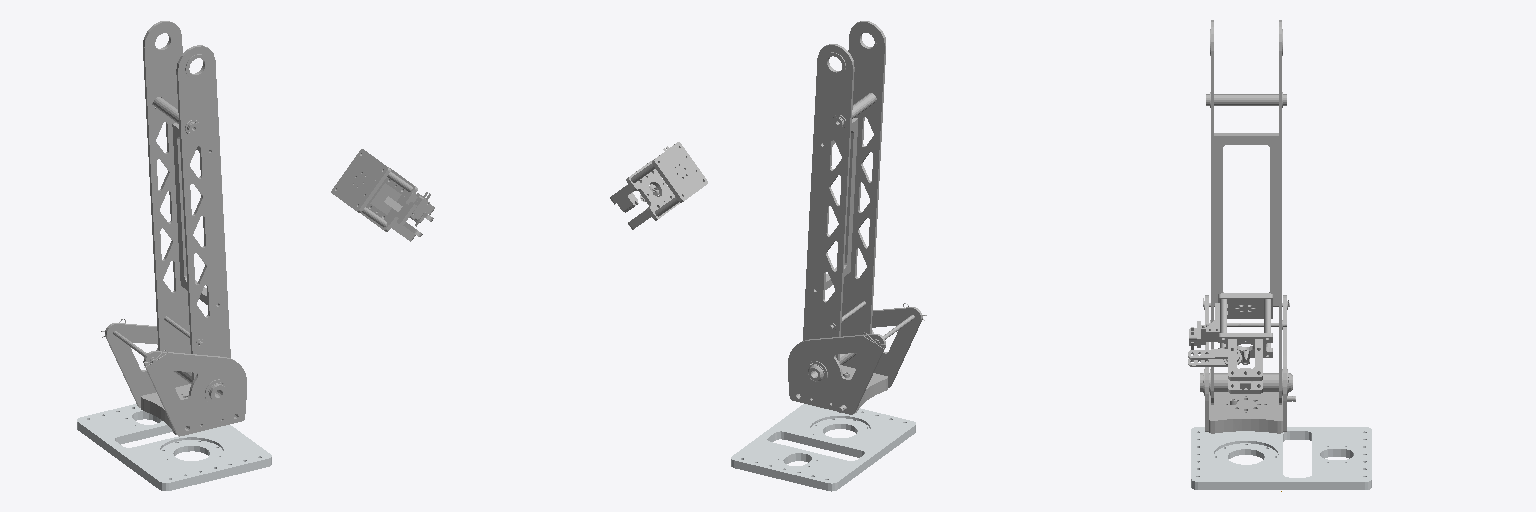
robot.urdf — uorover_ik_urdf:
<?xml version="1.0" encoding="utf-8"?>
<!-- This URDF was automatically created by SolidWorks to URDF Exporter! Originally created by Stephen Brawner (brawner@gmail.com) 
     Commit Version: 1.6.0-4-g7f85cfe  Build Version: 1.6.7995.38578
     For more information, please see http://wiki.ros.org/sw_urdf_exporter -->
<robot
  name="uorover_ik_urdf">
<link name="base_footprint">
    <visual>
        <origin xyz="0 0 0" rpy="0 0 0" />
        <geometry>
            <box size="0.001 0.001 0.001" />
        </geometry>
    </visual>
</link>

<joint name="base_footprint_joint" type="fixed">
    <origin xyz="0 0 0.001" rpy="0 0 0" />
    <parent link="base_footprint"/>
    <child link="L1" />
</joint>
  <link
    name="L1">
    <inertial>
      <origin
        xyz="-0.0889039999999999 -0.00216367371297598 0.0061926513443181"
        rpy="0 0 0" />
      <mass
        value="1.11567552816617" />
      <inertia
        ixx="0.00670675835729054"
        ixy="-1.72969439227837E-18"
        ixz="-2.42074452512688E-21"
        iyy="0.00350969062967327"
        iyz="-8.11762714426985E-06"
        izz="0.0101871515158493" />
    </inertial>
    <visual>
      <origin
        xyz="0 0 0"
        rpy="0 0 0" />
      <geometry>
        <mesh
          filename="package://arm_urdf/meshes/visual/L1.STL" />
      </geometry>
      <material
        name="">
        <color
          rgba="0.898039215686275 0.917647058823529 0.929411764705882 1" />
      </material>
    </visual>
    <collision>
      <origin
        xyz="0 0 0"
        rpy="0 0 0" />
      <geometry>
        <mesh
          filename="package://arm_urdf/meshes/visual/L1.STL" />
      </geometry>
    </collision>
  </link>
  <link
    name="L2">
    <inertial>
      <origin
        xyz="-0.00368694035818645 -3.21494672345969E-05 0.0956990751549506"
        rpy="0 0 0" />
      <mass
        value="1.18613336880623" />
      <inertia
        ixx="0.0014201652113015"
        ixy="2.76657889186741E-11"
        ixz="0.000221872575909511"
        iyy="0.00150405295307427"
        iyz="-1.28741499624588E-10"
        izz="0.00193692878914472" />
    </inertial>
    <visual>
      <origin
        xyz="0 0 0"
        rpy="0 0 0" />
      <geometry>
        <mesh
          filename="package://arm_urdf/meshes/visual/L2.STL" />
      </geometry>
      <material
        name="">
        <color
          rgba="0.752941176470588 0.752941176470588 0.752941176470588 1" />
      </material>
    </visual>
    <collision>
      <origin
        xyz="0 0 0"
        rpy="0 0 0" />
      <geometry>
        <mesh
          filename="package://arm_urdf/meshes/visual/L2.STL" />
      </geometry>
    </collision>
  </link>
  <joint
    name="q1"
    type="revolute">
    <origin
      xyz="-0.0889039999999999 -0.0484047735988484 0.0127"
      rpy="0 0 0" />
    <parent
      link="L1" />
    <child
      link="L2" />
    <axis
      xyz="0 0 1" />
    <limit
      lower="-3.1415"
    upper="3.1415"
    effort="0"
    velocity="0"/>
  </joint>
  <link
    name="L3">
    <inertial>
      <origin
        xyz="0.25167098941159 0.00314599624516848 0.00045160017119715"
        rpy="0 0 0" />
      <mass
        value="1.0549508173511" />
      <inertia
        ixx="0.000628061590090841"
        ixy="-5.98815097701081E-06"
        ixz="-3.58336064559531E-13"
        iyy="0.0200045124275016"
        iyz="1.32565003895787E-13"
        izz="0.0198519941643707" />
    </inertial>
    <visual>
      <origin
        xyz="0 0 0"
        rpy="0 0 0" />
      <geometry>
        <mesh
          filename="package://arm_urdf/meshes/visual/L3.STL" />
      </geometry>
      <material
        name="">
        <color
          rgba="0.752941176470588 0.752941176470588 0.752941176470588 1" />
      </material>
    </visual>
    <collision>
      <origin
        xyz="0 0 0"
        rpy="0 0 0" />
      <geometry>
        <mesh
          filename="package://arm_urdf/meshes/visual/L3.STL" />
      </geometry>
    </collision>
  </link>
  <joint
    name="q2"
    type="revolute">
    <origin
      xyz="0.00685808437219609 0 0.110999999999996"
      rpy="1.57079632679491 -1.51729393736529 3.14159265358979" />
    <parent
      link="L2" />
    <child
      link="L3" />
    <axis
      xyz="0 0 -1" />
    <limit
      lower="-3.1415"
    upper="3.1415"
    effort="0"
    velocity="0"/>
  </joint>
  <link
    name="L4">
    <inertial>
      <origin
        xyz="0.0724577913642345 -7.65371123567782E-06 0.00966446663630576"
        rpy="0 0 0" />
      <mass
        value="1.69913449694391" />
      <inertia
        ixx="0.00113988410083823"
        ixy="4.87653122834321E-08"
        ixz="4.90111264903512E-07"
        iyy="0.00805881384546574"
        iyz="9.93393014315408E-09"
        izz="0.00750229198284252" />
    </inertial>
    <visual>
      <origin
        xyz="0 0 0"
        rpy="0 0 0" />
      <geometry>
        <mesh
          filename="package://arm_urdf/meshes/visual/L4.STL" />
      </geometry>
      <material
        name="">
        <color
          rgba="0.752941176470588 0.752941176470588 0.752941176470588 1" />
      </material>
    </visual>
    <collision>
      <origin
        xyz="0 0 0"
        rpy="0 0 0" />
      <geometry>
        <mesh
          filename="package://arm_urdf/meshes/visual/L4.STL" />
      </geometry>
    </collision>
  </link>
  <joint
    name="q3"
    type="revolute">
    <origin
      xyz="0.50000000000005 0 -9.84000539984223E-05"
      rpy="-3.14159265358978 0 2.35890188320883" />
    <parent
      link="L3" />
    <child
      link="L4" />
    <axis
      xyz="0 0 -1" />
    <limit
      lower="-3.1415"
    upper="3.1415"
    effort="0"
    velocity="0"/>
  </joint>
  <link
    name="L5">
    <inertial>
      <origin
        xyz="0.077844 0.0091065 1.9225E-05"
        rpy="0 0 0" />
      <mass
        value="0.76537" />
      <inertia
        ixx="0.00054203"
        ixy="-1.2252E-07"
        ixz="-1.0841E-06"
        iyy="0.00043298"
        iyz="7.4122E-08"
        izz="0.00047905" />
    </inertial>
    <visual>
      <origin
        xyz="0 0 0"
        rpy="0 0 0" />
      <geometry>
        <mesh
          filename="package://arm_urdf/meshes/visual/L5.STL" />
      </geometry>
      <material
        name="">
        <color
          rgba="0.75294 0.75294 0.75294 1" />
      </material>
    </visual>
    <collision>
      <origin
        xyz="0 0 0"
        rpy="0 0 0" />
      <geometry>
        <mesh
          filename="package://arm_urdf/meshes/visual/L5.STL" />
      </geometry>
    </collision>
  </link>
  <joint
    name="q4"
    type="revolute">
    <origin
      xyz="0.25 0 0.000139587202491478"
      rpy="0 0 0" />
    <parent
      link="L4" />
    <child
      link="L5" />
    <axis
      xyz="0 0 -1" />
    <limit
      lower="-3.1415"
    upper="3.1415"
    effort="0"
    velocity="0"/>
  </joint>
  <link
    name="L6">
    <inertial>
      <origin
        xyz="-0.0050341 0.00054854 0.050569"
        rpy="0 0 0" />
      <mass
        value="0.46655" />
      <inertia
        ixx="0.00016561"
        ixy="-6.7947E-08"
        ixz="2.1324E-06"
        iyy="0.00018269"
        iyz="-4.0038E-07"
        izz="0.000225" />
    </inertial>
    <visual>
      <origin
        xyz="0 0 0"
        rpy="0 0 0" />
      <geometry>
        <mesh
          filename="package://arm_urdf/meshes/visual/L6.STL" />
      </geometry>
      <material
        name="">
        <color
          rgba="0.75294 0.75294 0.75294 1" />
      </material>
    </visual>
    <collision>
      <origin
        xyz="0 0 0"
        rpy="0 0 0" />
      <geometry>
        <mesh
          filename="package://arm_urdf/meshes/visual/L6.STL" />
      </geometry>
    </collision>
  </link>
  <joint
    name="q5"
    type="continuous">
    <origin
      xyz="0.1373 0 0.00014345889109937"
      rpy="0 1.5707963267949 0" />
    <parent
      link="L5" />
    <child
      link="L6" />
    <axis
      xyz="0 0 -1" />
  </joint>
  <link
    name="L7">
    <inertial>
      <origin
        xyz="0.023439 -6.8897E-05 -0.0032675"
        rpy="0 0 0" />
      <mass
        value="0.027395" />
      <inertia
        ixx="7.5105E-07"
        ixy="-2.8505E-21"
        ixz="-2.3682E-08"
        iyy="1.0292E-05"
        iyz="8.6482E-22"
        izz="1.0861E-05" />
    </inertial>
    <visual>
      <origin
        xyz="0 0 0"
        rpy="0 0 0" />
      <geometry>
        <mesh
          filename="package://arm_urdf/meshes/visual/L7.STL" />
      </geometry>
      <material
        name="">
        <color
          rgba="0.75294 0.75294 0.75294 1" />
      </material>
    </visual>
    <collision>
      <origin
        xyz="0 0 0"
        rpy="0 0 0" />
      <geometry>
        <mesh
          filename="package://arm_urdf/meshes/visual/L7.STL" />
      </geometry>
    </collision>
  </link>
  <joint
    name="q6"
    type="revolute">
    <origin
      xyz="-0.0179216519246285 0.00323035087726131 0.0792642765878136"
      rpy="1.5707963267949 -0.0272761093214972 3.14159265358978" />
    <parent
      link="L6" />
    <child
      link="L7" />
    <axis
      xyz="0 0 -1" />
    <limit
      lower="-3.1415"
    upper="3.1415"
    effort="0"
    velocity="0"/>
  </joint>
</robot>

--- What the picture shows (computed from the rendered views, not written in the file) ---
3 views of the same robot in one strip: view 1: azimuth 30°, elevation 25°; view 2: azimuth 150°, elevation 25°; view 3: azimuth 270°, elevation 25° (orthographic).
Model uorover_ik_urdf with 8 links and 7 joints (5 revolute, 1 continuous, 1 fixed), rooted at base_footprint, posed every joint at zero.
Links seen in each view (by area): view 1: L3, L2, L1, L6; view 2: L3, L1, L2, L6; view 3: L1, L3, L6, L2, L7.
Link boxes in pixels (x1=…): L3: x1=143, y1=21, x2=230, y2=384; L2: x1=101, y1=319, x2=246, y2=436; L1: x1=77, y1=404, x2=271, y2=490; L6: x1=331, y1=149, x2=434, y2=241; L3: x1=803, y1=21, x2=885, y2=366; L1: x1=731, y1=404, x2=915, y2=491; L2: x1=788, y1=303, x2=926, y2=414; L6: x1=610, y1=142, x2=707, y2=229; L1: x1=1191, y1=427, x2=1371, y2=489; L3: x1=1206, y1=20, x2=1286, y2=404; L6: x1=1189, y1=293, x2=1272, y2=393; L2: x1=1200, y1=295, x2=1295, y2=433; L7: x1=1188, y1=349, x2=1227, y2=366.
Bounding box of the posed robot: 0.4872 × 0.2513 × 0.6544 m (x, y, z).
Meshes: 7 distinct files referenced, 5 mesh visuals loaded (5 binary STL); not drawn: 2 (reference not matched to a file when rendering).
